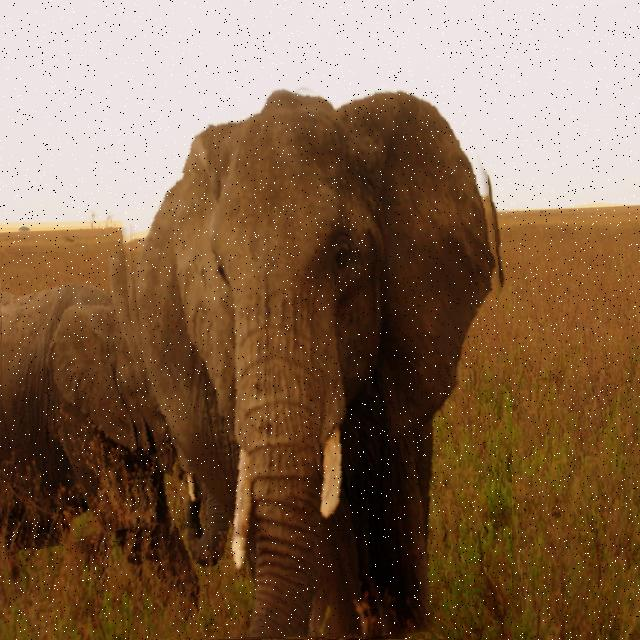elephant: (124, 80, 512, 640), (0, 252, 183, 544)
